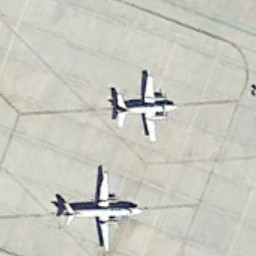Airplane: (52, 159, 151, 256), (99, 61, 189, 151)
